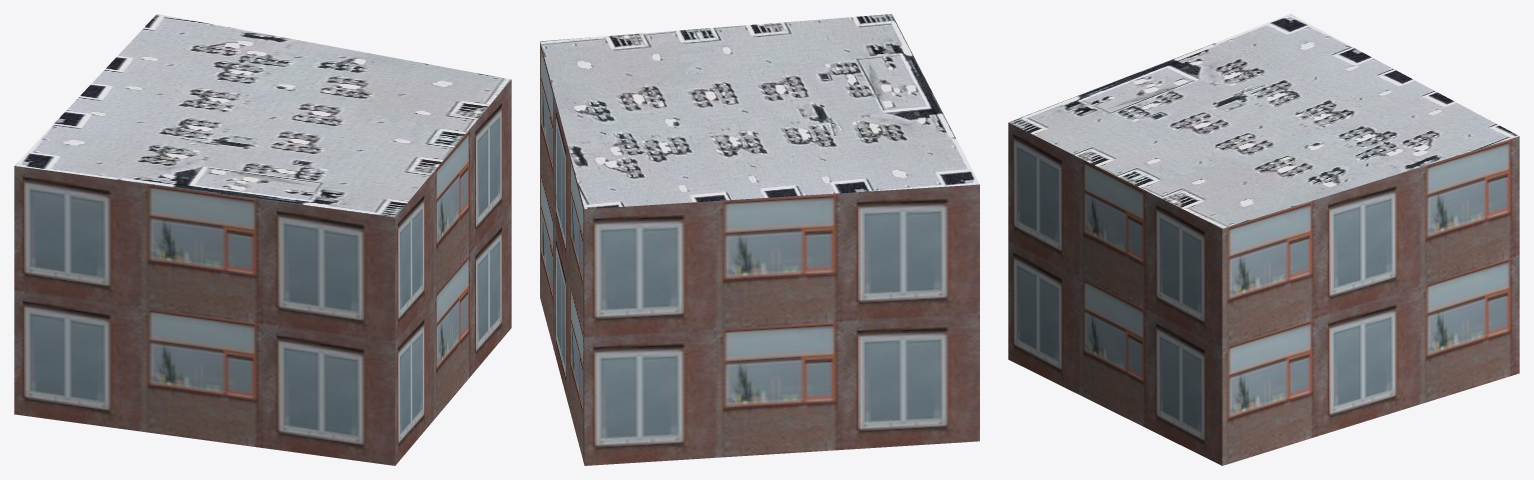
Rendered from ResTex__1647.fbx.
3 views of the same model, side by side, from view 1: azimuth 30°, elevation 25°; view 2: azimuth 150°, elevation 25°; view 3: azimuth 270°, elevation 25° (orthographic). The views are drawn at different scales.
Visible parts, largest first — view 1: CityEngineMaterial_19_m, CityEngineMaterial_8_m; view 2: CityEngineMaterial_19_m, CityEngineMaterial_8_m; view 3: CityEngineMaterial_19_m, CityEngineMaterial_8_m.
Boxes of the visible parts, x1,y1,x2,y2 form: CityEngineMaterial_19_m: (14,80,511,465); CityEngineMaterial_8_m: (15,14,511,217); CityEngineMaterial_19_m: (540,41,979,465); CityEngineMaterial_8_m: (540,14,979,209); CityEngineMaterial_19_m: (1008,122,1519,465); CityEngineMaterial_8_m: (1008,14,1519,228).
Bounding box in the file's own units: 11.66 × 6 × 11.73.
2 materials, 2 textured.
